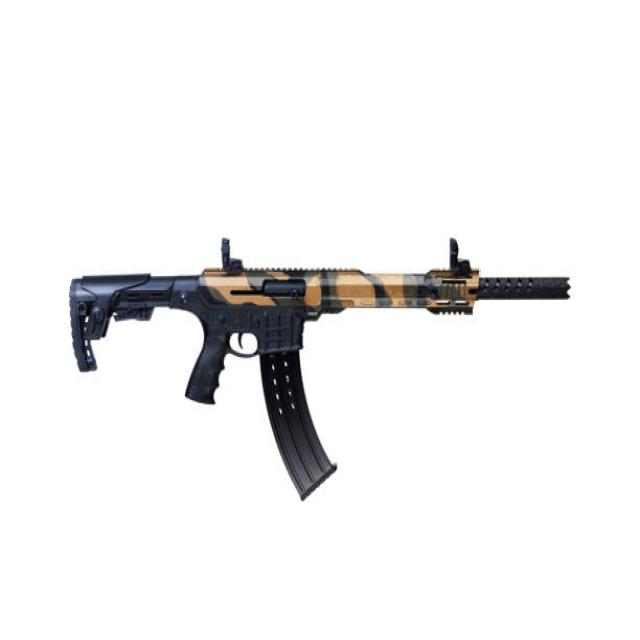rifle: (48, 230, 579, 527)
